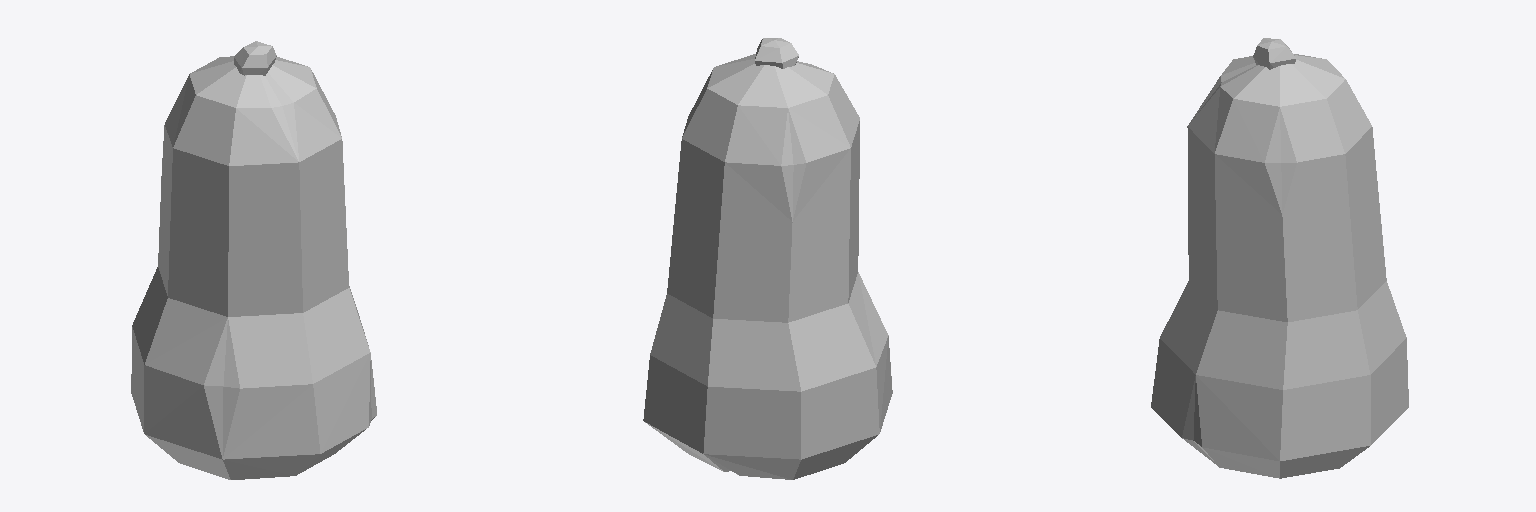
Rendered from SM_Prop_Squash_Butternut_01.obj.
3 views of the same model, side by side, from view 1: azimuth 30°, elevation 25°; view 2: azimuth 150°, elevation 25°; view 3: azimuth 270°, elevation 25° (orthographic).
Size of the model in its own units: 29.04 by 52.93 by 29.04.